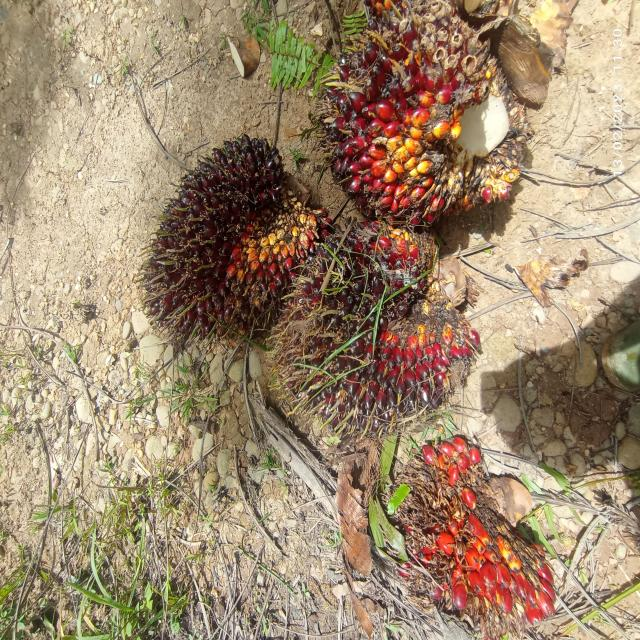fraksi 1: (285, 0, 569, 243), (143, 111, 373, 362), (261, 208, 507, 431)
fraksi 3: (375, 415, 578, 640)
